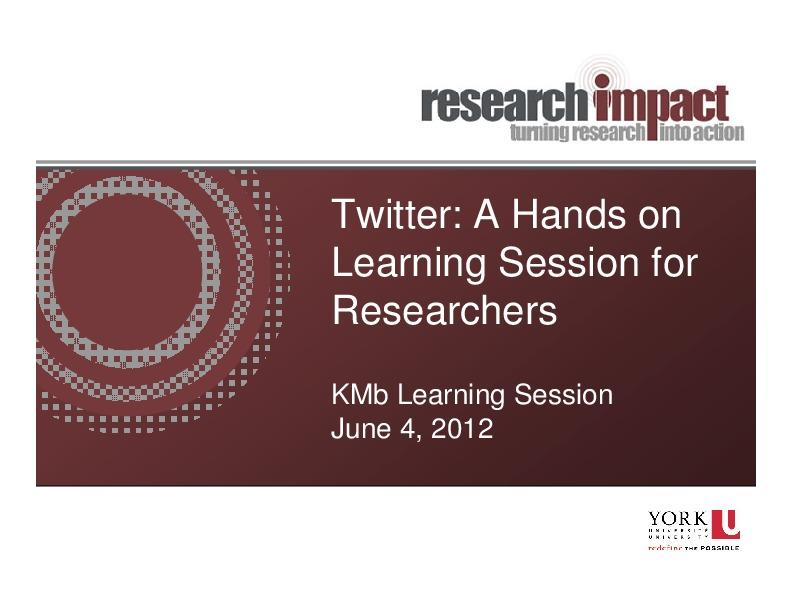subtitle: (323, 368, 638, 460)
title: (315, 181, 744, 340), (416, 59, 759, 151)
